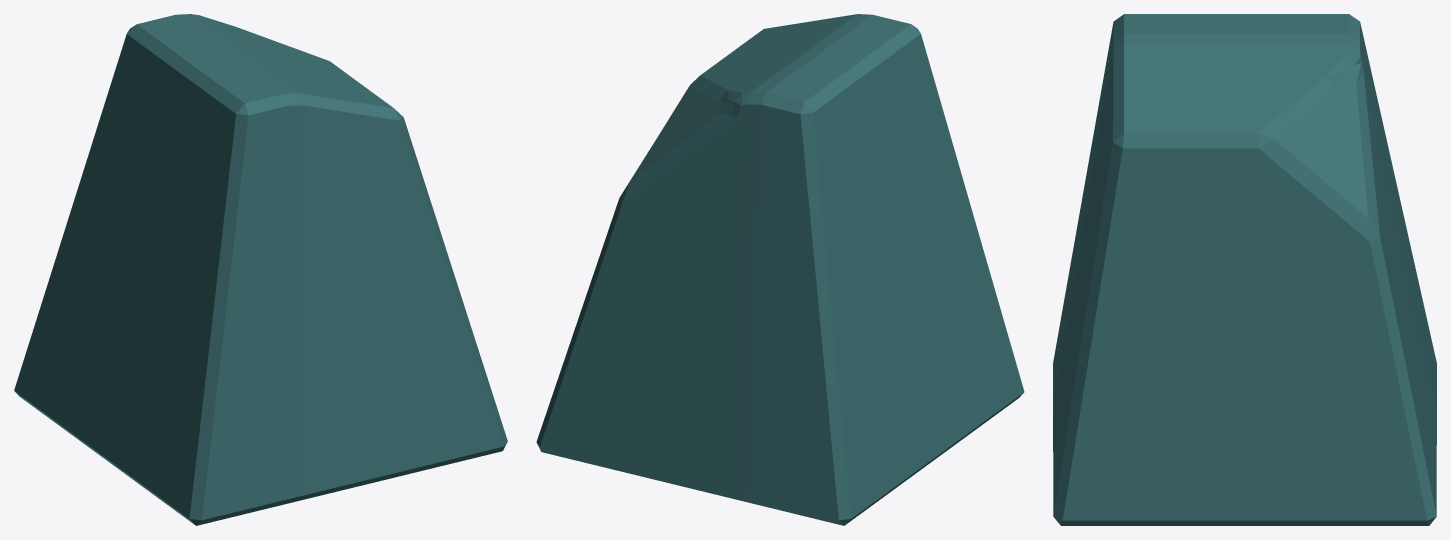
The model's file is Swamp_Stone_2.fbx.
3 views of the same model, side by side, from view 1: azimuth 30°, elevation 25°; view 2: azimuth 150°, elevation 25°; view 3: azimuth 270°, elevation 25° (orthographic). The views are drawn at different scales.
Visible parts, largest first — view 1: Swamp Stone 2; view 2: Swamp Stone 2; view 3: Swamp Stone 2.
Part boxes in pixels (x1=…): Swamp Stone 2: x1=14, y1=14, x2=507, y2=525; Swamp Stone 2: x1=536, y1=14, x2=1024, y2=525; Swamp Stone 2: x1=1053, y1=14, x2=1436, y2=525.
Size of the model in its own units: 198 by 226 by 198.
